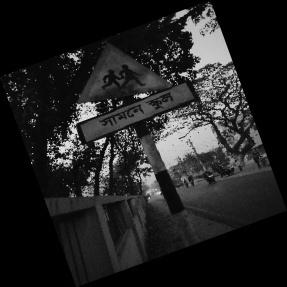School-in-front: (74, 42, 194, 146)
